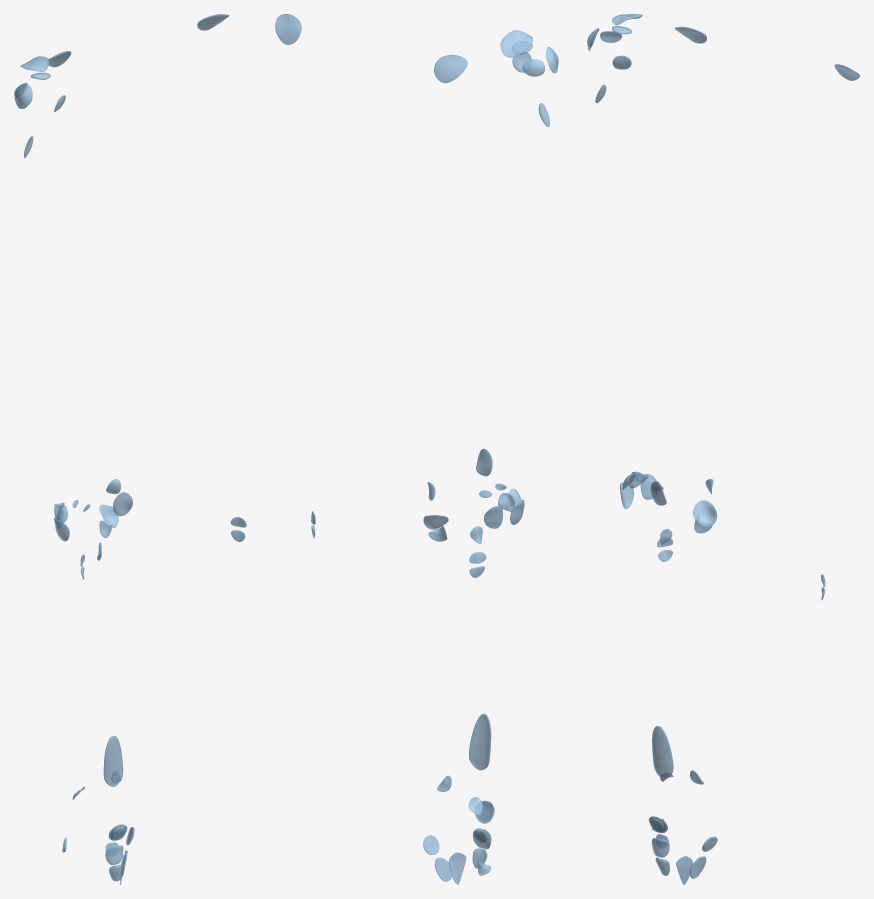
File: bursae.glb
3 renders of one model, left to right at view 1: azimuth 30°, elevation 25°; view 2: azimuth 150°, elevation 25°; view 3: azimuth 330°, elevation 25°, orthographic. The views are drawn at different scales.
Visible parts, largest first — view 1: bursa_suprapatellar_r; view 2: bursa_suprapatellar_r, bursa_trapezius_r, bursa_trapezius_l, bursa_subcutaneous_acromial_r; view 3: bursa_suprapatellar_r.
Part boxes in pixels (<box>): bursa_suprapatellar_r: <box>103,736,123,786</box>; bursa_suprapatellar_r: <box>469,713,491,770</box>; bursa_trapezius_r: <box>434,54,467,83</box>; bursa_trapezius_l: <box>275,14,301,44</box>; bursa_subcutaneous_acromial_r: <box>500,30,532,57</box>; bursa_suprapatellar_r: <box>652,726,673,778</box>.
Bounding box in the file's own units: 0.3184 × 1.06 × 0.1279.
